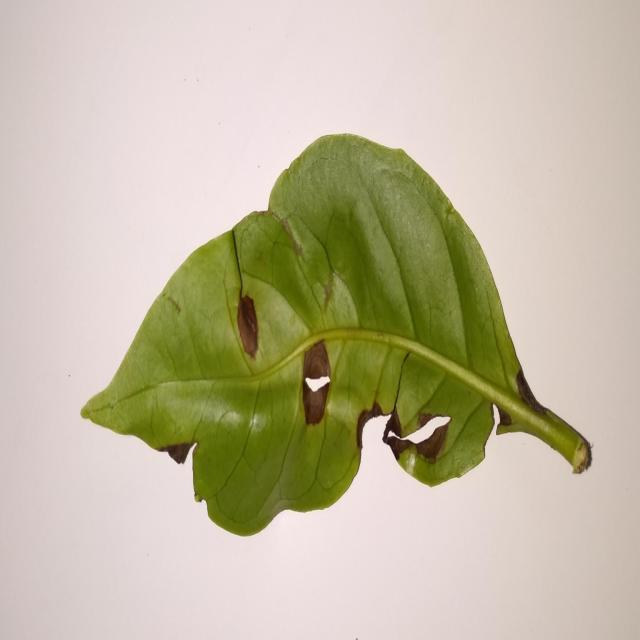Enfermedad-Antracnosis: (80, 134, 594, 539)
